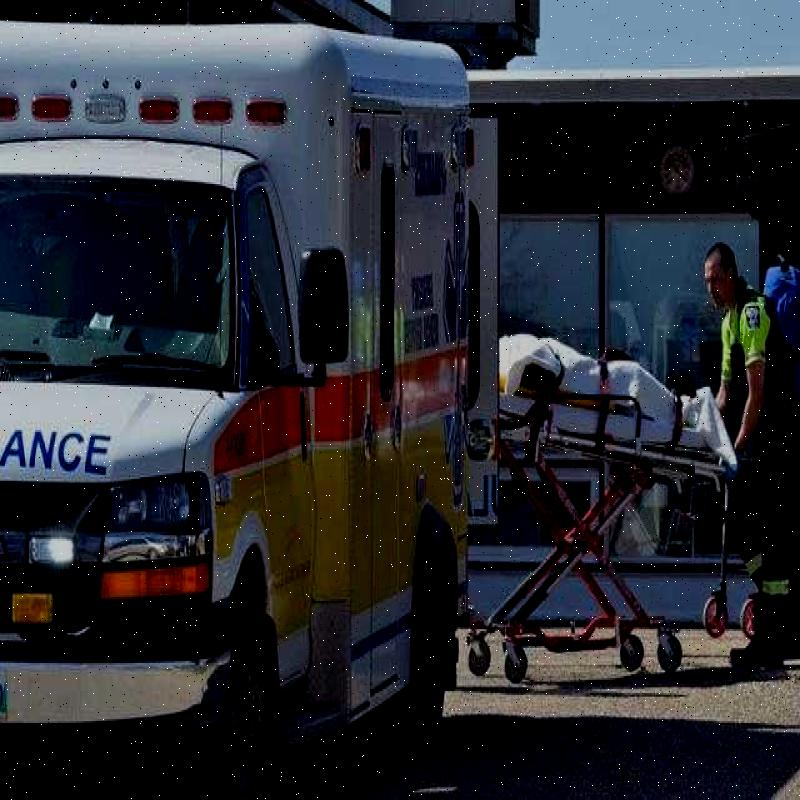AmbulanceSiren: (0, 92, 288, 124)
